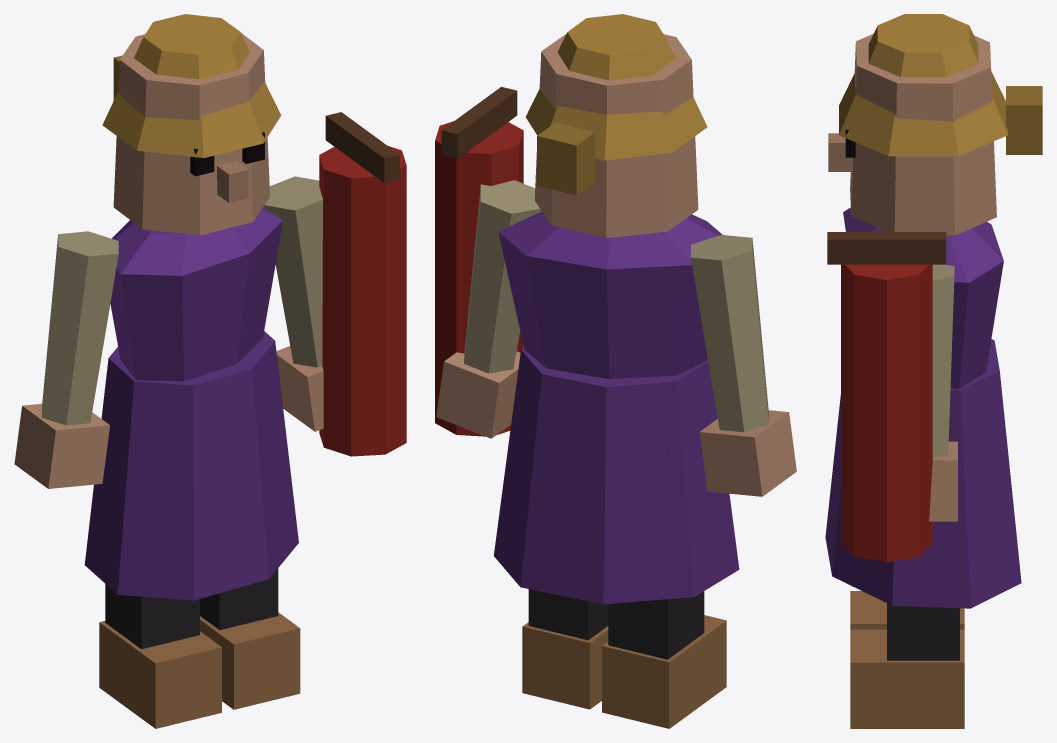
File: clothier.glb
3 views of the same model, side by side, from view 1: azimuth 30°, elevation 25°; view 2: azimuth 150°, elevation 25°; view 3: azimuth 270°, elevation 25° (orthographic).
Visible parts, largest first — view 1: clothier_torso, clothier_head, clothier_cloth_bolt, clothier_arm_r, clothier_leg_r, clothier_arm_l, clothier_leg_l; view 2: clothier_torso, clothier_head, clothier_arm_r, clothier_cloth_bolt, clothier_leg_r, clothier_arm_l, clothier_leg_l; view 3: clothier_head, clothier_cloth_bolt, clothier_torso, clothier_leg_l, clothier_arm_l, clothier_leg_r.
Part boxes in pixels (left/top/right/bottom): clothier_torso: left=84, top=205, right=298, bottom=600; clothier_head: left=102, top=14, right=281, bottom=235; clothier_cloth_bolt: left=319, top=112, right=406, bottom=456; clothier_arm_r: left=14, top=231, right=118, bottom=488; clothier_leg_r: left=99, top=584, right=221, bottom=728; clothier_arm_l: left=265, top=176, right=323, bottom=431; clothier_leg_l: left=200, top=411, right=300, bottom=709; clothier_torso: left=494, top=211, right=739, bottom=604; clothier_head: left=526, top=14, right=707, bottom=237; clothier_arm_r: left=690, top=235, right=796, bottom=496; clothier_cloth_bolt: left=435, top=86, right=523, bottom=436; clothier_leg_r: left=602, top=451, right=726, bottom=728; clothier_arm_l: left=436, top=180, right=541, bottom=438; clothier_leg_l: left=522, top=589, right=608, bottom=709; clothier_head: left=828, top=14, right=1042, bottom=235; clothier_cloth_bolt: left=827, top=232, right=946, bottom=562; clothier_torso: left=825, top=207, right=1021, bottom=608; clothier_leg_l: left=850, top=603, right=964, bottom=728; clothier_arm_l: left=929, top=264, right=957, bottom=521; clothier_leg_r: left=850, top=591, right=964, bottom=629.
Bounding box in the file's own units: 0.8748 × 1.54 × 0.4599.
